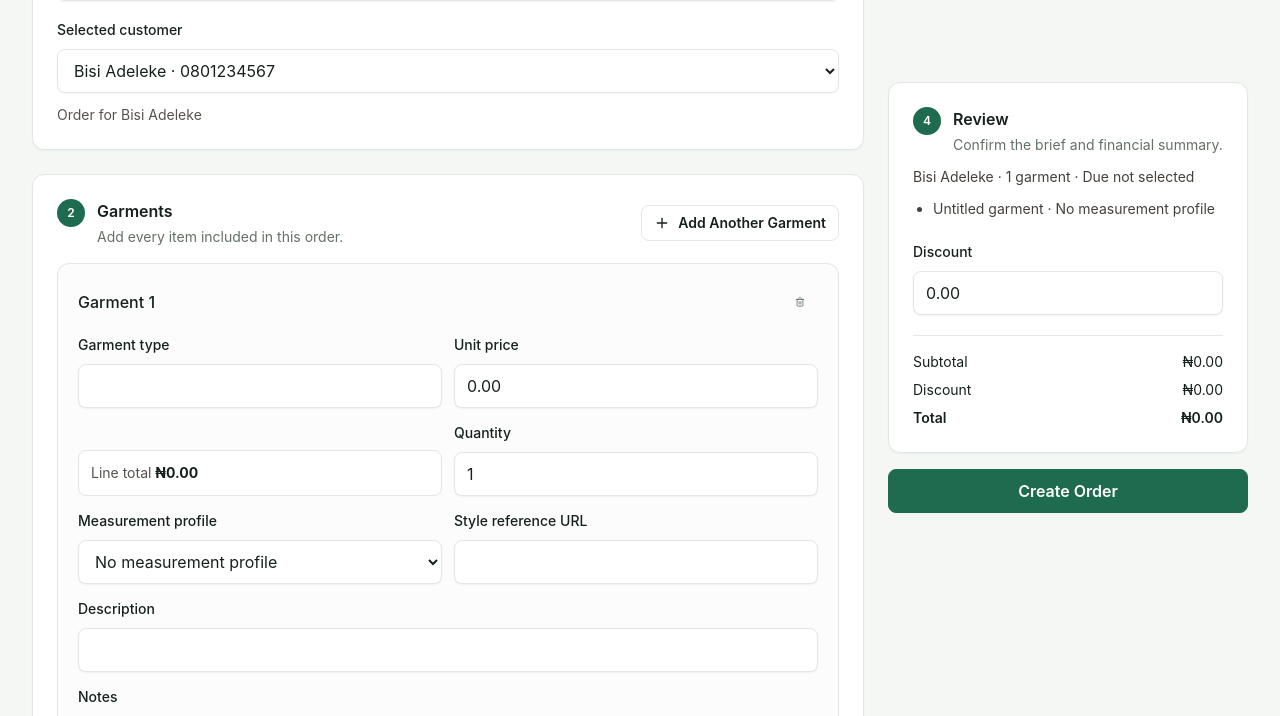
it: create order renders pricing and updates line total and subtotal
This screenshot has width=1280, height=716.
(page scrolled)
Step 1. Replace the text in the number field named "Unit price garment 1" with "45000" → (636, 386), box [454,364,818,408]
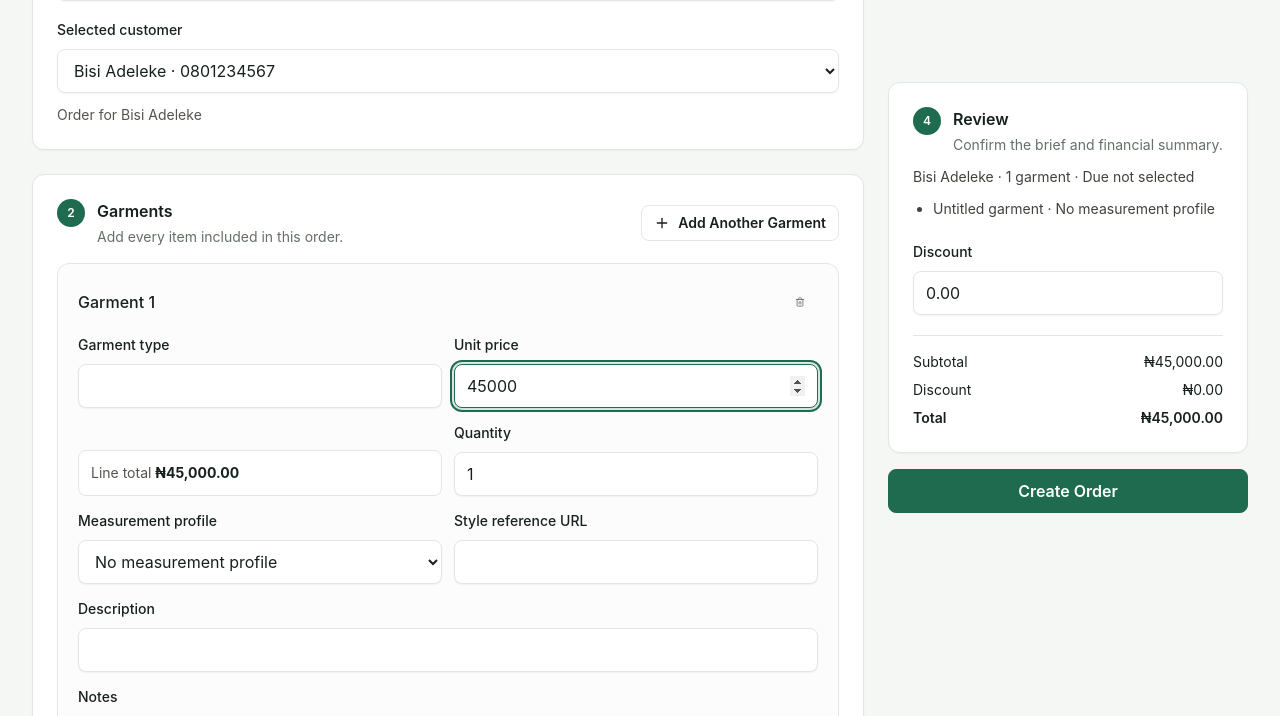
Step 2. Replace the text in the number field labelled "Quantity" with "2" → (636, 474), box [454,452,818,496]
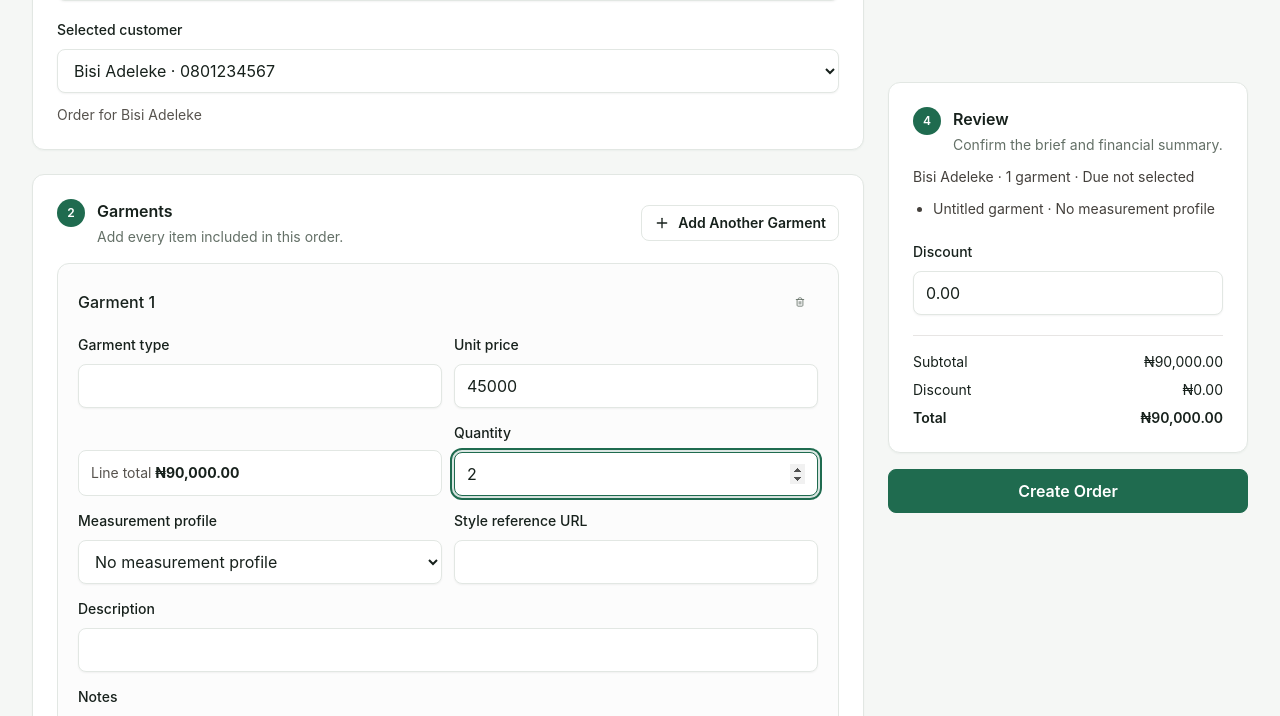
Expected: the text "₦90,000.00" next to "Line total" is shown, [155,464,240,480]
